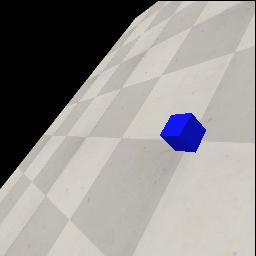box: (160, 113, 206, 153)
